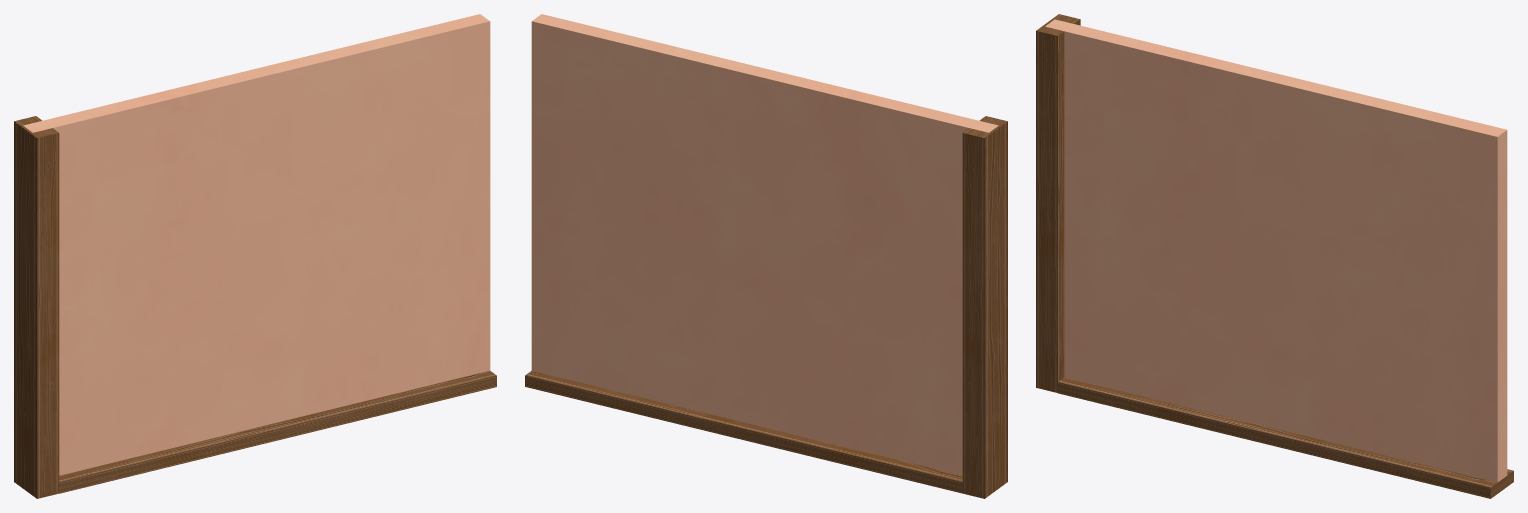
File: SM_Large_Wall_03_wrose.glb
3 renders of one model, left to right at view 1: azimuth 30°, elevation 25°; view 2: azimuth 150°, elevation 25°; view 3: azimuth 330°, elevation 25°, orthographic.
Visible parts, largest first — view 1: SM_Large_Wall_03; view 2: SM_Large_Wall_03; view 3: SM_Large_Wall_03.
Part boxes in pixels (box(x1,y1,x2,y2)): SM_Large_Wall_03: box(14, 14, 496, 498); SM_Large_Wall_03: box(525, 14, 1007, 498); SM_Large_Wall_03: box(1036, 14, 1513, 498).
Bounding box in the file's own units: 4 × 3 × 0.3524.
2 materials, 2 textured.
